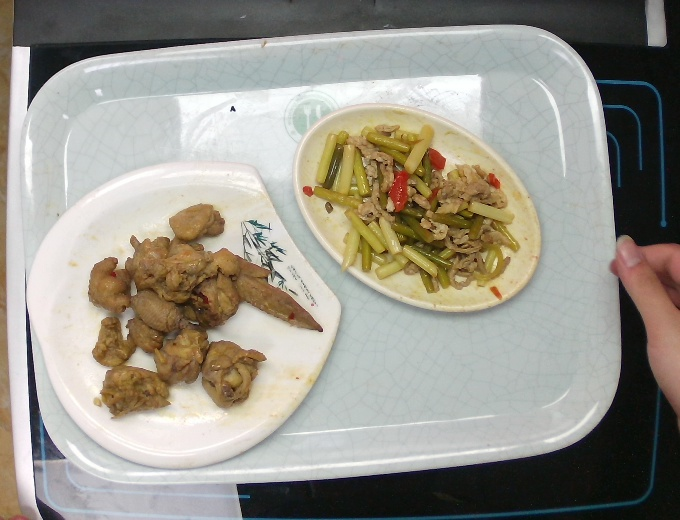JYsf-Mian_Pan: (22, 162, 345, 470)
JYsf-Tuo_Yuan_Wan: (295, 100, 543, 316)
